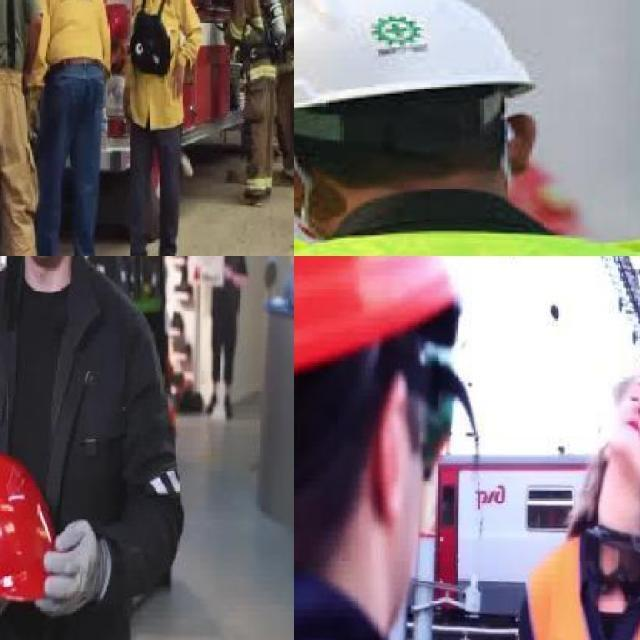apron: (36, 515, 104, 620)
